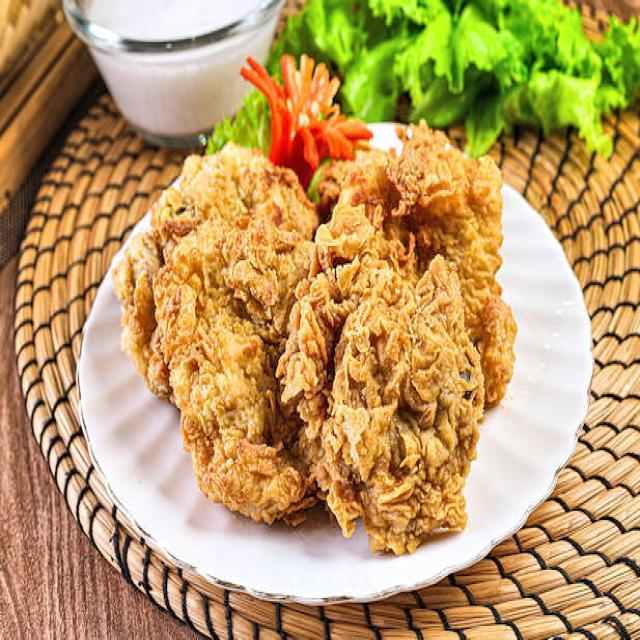ayam_goreng: (100, 119, 538, 568)
